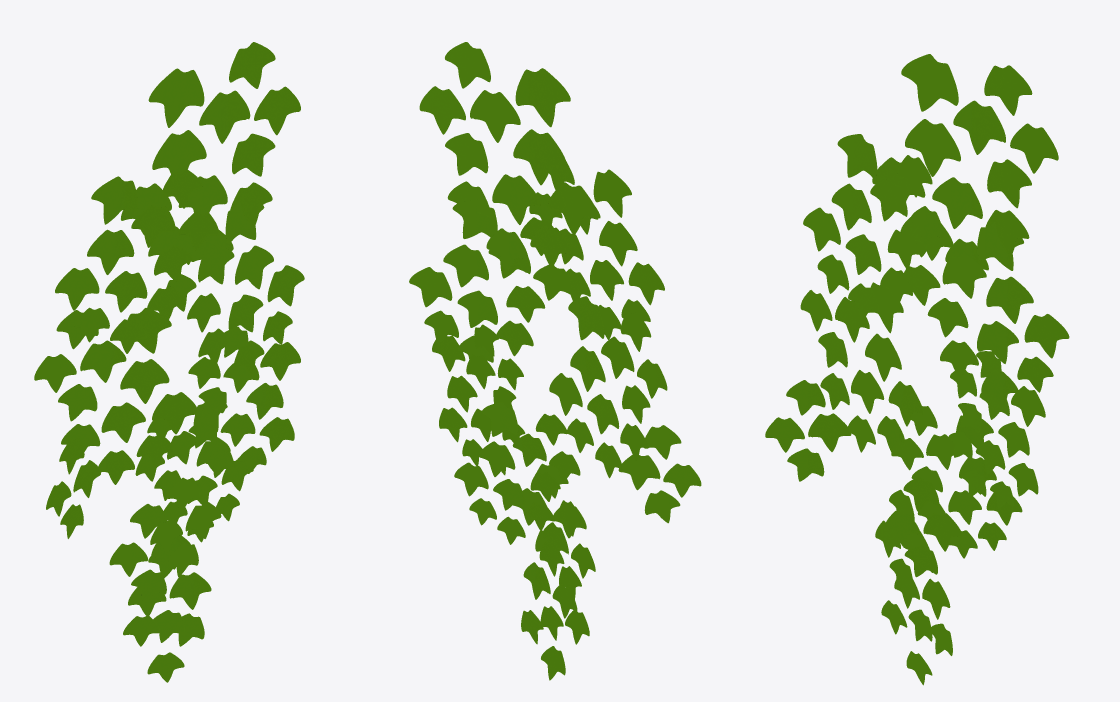
Rendered from Prop_Vine2.gltf.
3 renders of one model, left to right at view 1: azimuth 30°, elevation 25°; view 2: azimuth 150°, elevation 25°; view 3: azimuth 330°, elevation 25°, orthographic. The views are drawn at different scales.
Parts seen in each view (by area): view 1: Prop_Vine2; view 2: Prop_Vine2; view 3: Prop_Vine2.
Boxes of the visible parts, box(x1,y1,x2,y2) form: Prop_Vine2: box(34, 42, 304, 682); Prop_Vine2: box(409, 42, 701, 680); Prop_Vine2: box(765, 54, 1069, 685).
Size of the model in its own units: 1.39 by 2.6 by 0.2138.
1 material, 1 textured.
